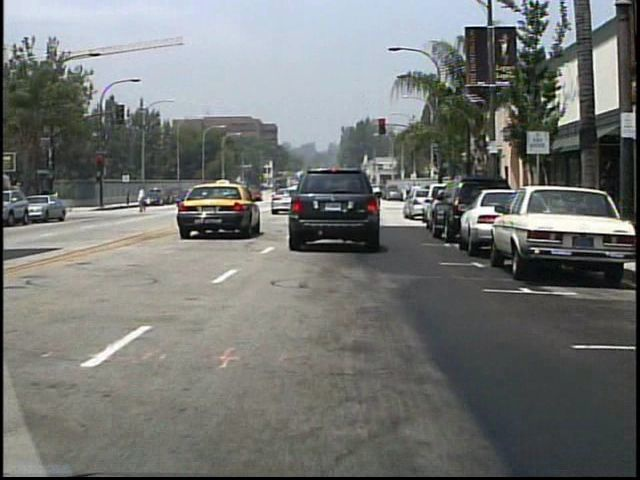person: (372, 184, 389, 215), (135, 187, 152, 214)
